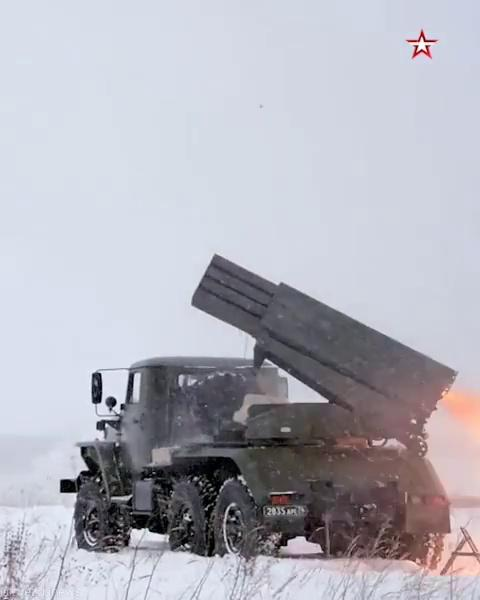MIL_SAM_TEL: (63, 251, 452, 565)
